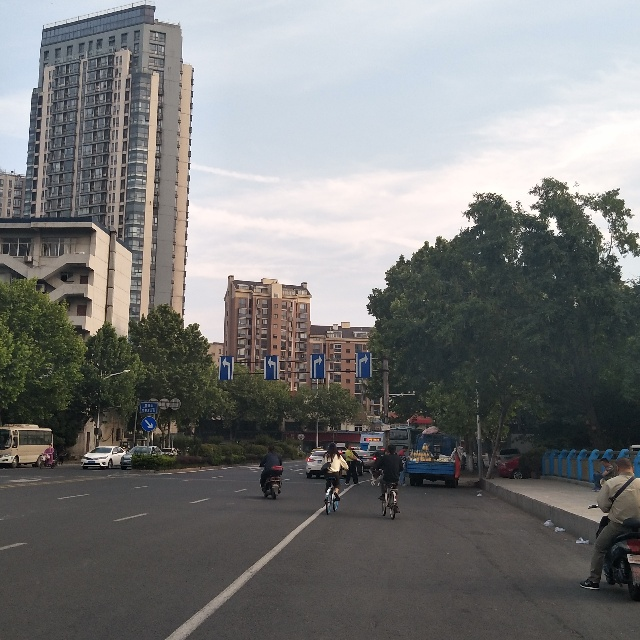left: (264, 356, 279, 380), (219, 356, 233, 380)
right: (355, 352, 372, 378), (310, 354, 325, 379)
